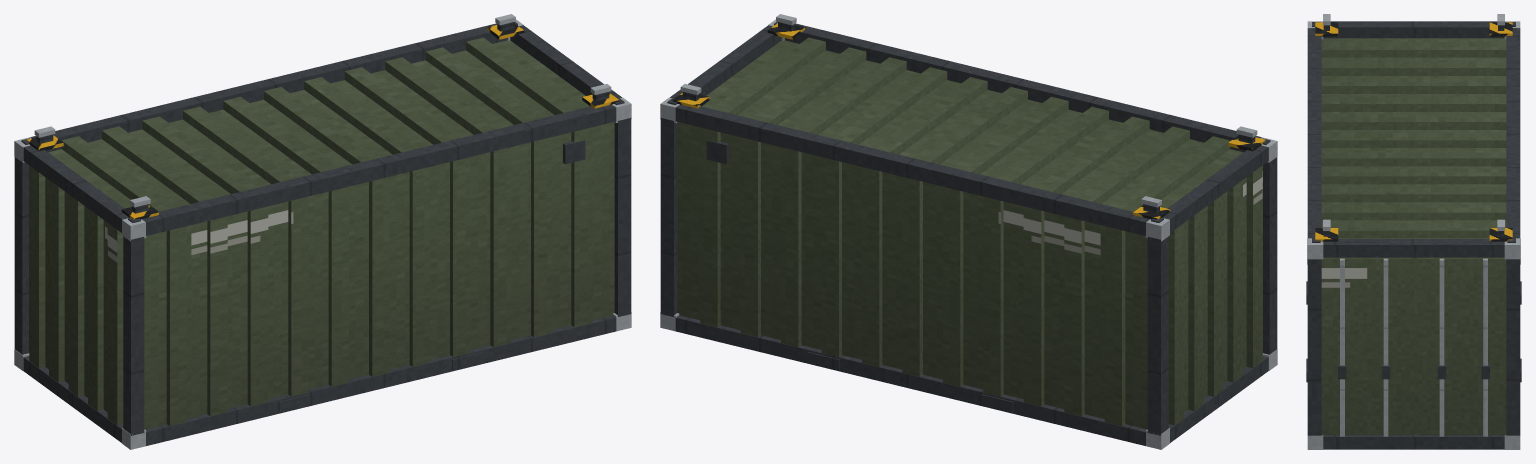
File: sam_kit.glb
The picture shows the model from 3 angles, left to right: view 1: azimuth 30°, elevation 25°; view 2: azimuth 150°, elevation 25°; view 3: azimuth 270°, elevation 25°; orthographic projection. The views are drawn at different scales.
Visible parts, largest first — view 1: SAM_ContainerNATO, SAM_SteelDark, SAM_SteelLight, SAM_HazardStripes; view 2: SAM_ContainerNATO, SAM_SteelDark, SAM_SteelLight, SAM_HazardStripes; view 3: SAM_ContainerNATO, SAM_SteelDark, SAM_SteelLight, SAM_HazardStripes.
Boxes of the visible parts, box(x1,y1,x2,y2) form: SAM_ContainerNATO: box(29, 37, 614, 429); SAM_SteelDark: box(14, 22, 631, 445); SAM_SteelLight: box(14, 14, 631, 449); SAM_HazardStripes: box(26, 23, 619, 219); SAM_ContainerNATO: box(677, 37, 1262, 429); SAM_SteelDark: box(660, 22, 1277, 445); SAM_SteelLight: box(660, 14, 1277, 449); SAM_HazardStripes: box(672, 23, 1265, 219); SAM_ContainerNATO: box(1321, 38, 1506, 435); SAM_SteelDark: box(1306, 21, 1521, 449); SAM_SteelLight: box(1307, 14, 1520, 449); SAM_HazardStripes: box(1315, 22, 1512, 241).
Bounding box in the file's own units: 6.12 × 2.75 × 2.47.
Materials: 4 (4 with a texture image).
